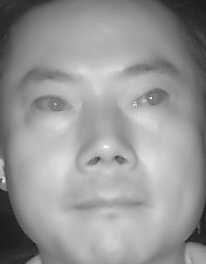eye: (128, 85, 177, 114), (30, 91, 77, 118)
mouth: (73, 182, 149, 226)
